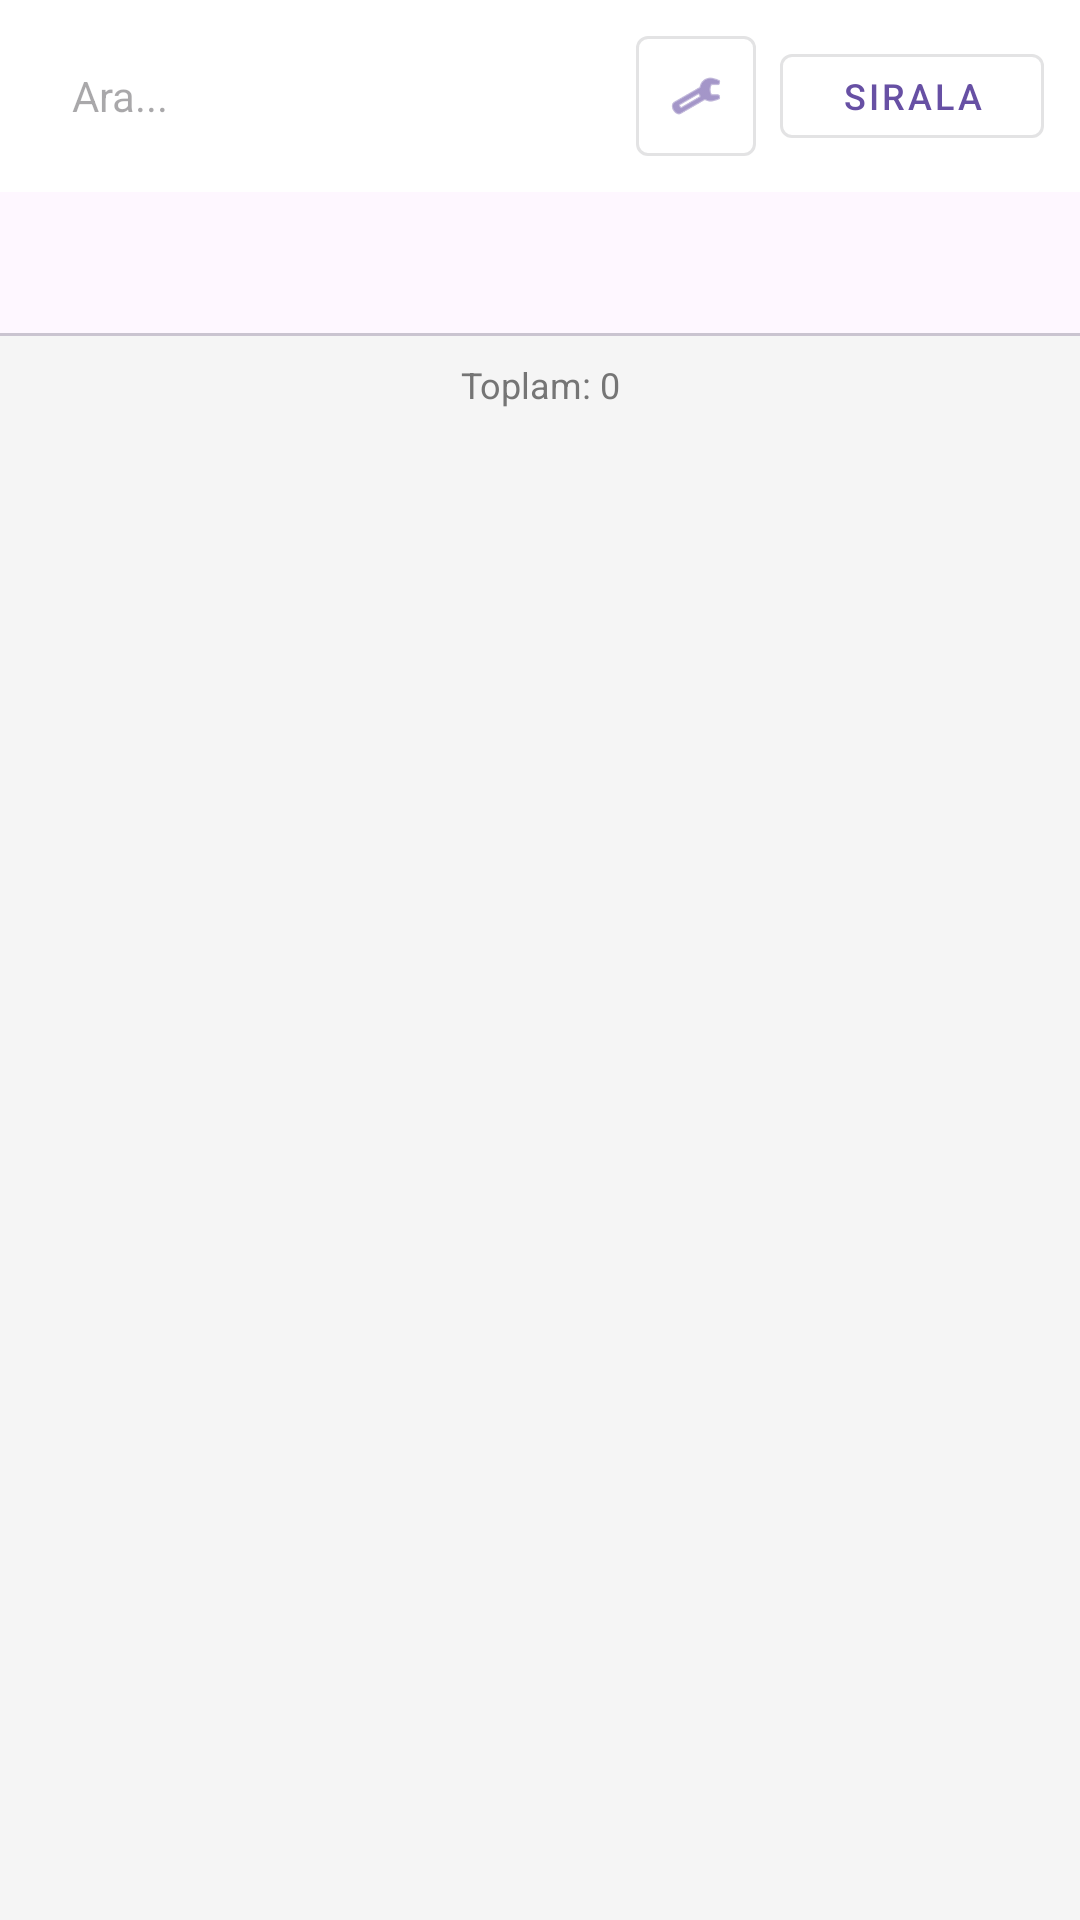

Icon bounding boxes for this 1080x1920 phone screenshot, format {"x1": x1, "y1": y1, "x2": x2, "y2": y2}:
manage: {"x1": 636, "y1": 36, "x2": 756, "y2": 156}
